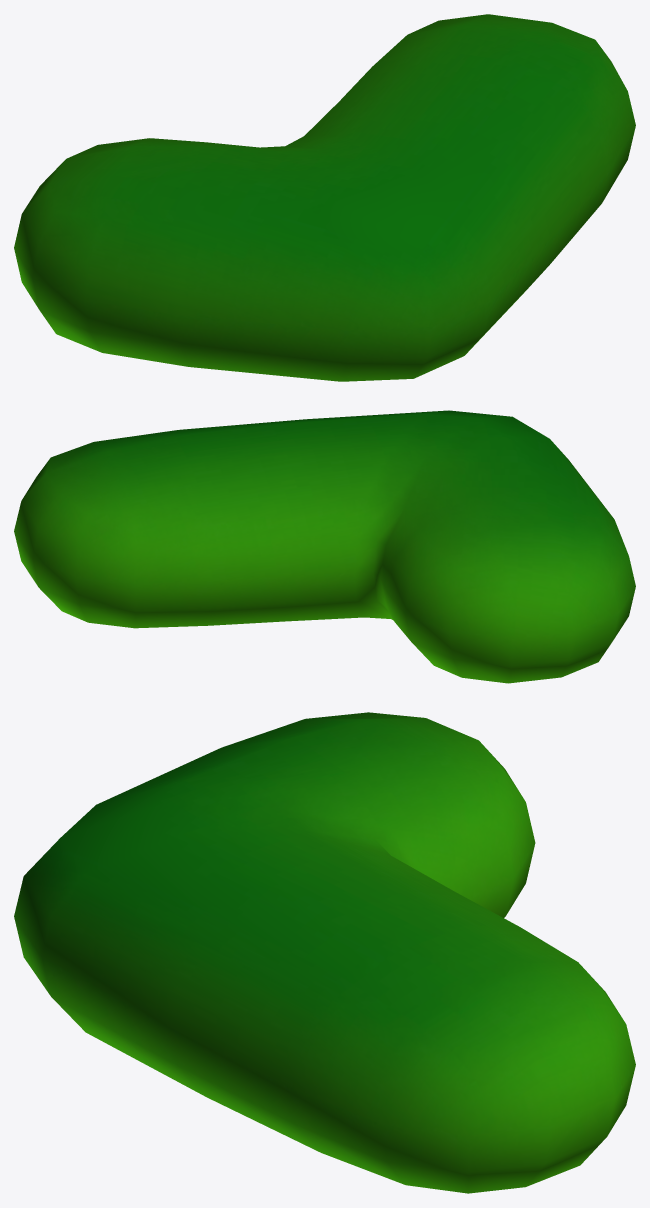
The model's file is tick.glb.
The picture shows the model from 3 angles, top to bottom: view 1: azimuth 30°, elevation 25°; view 2: azimuth 150°, elevation 25°; view 3: azimuth 270°, elevation 25°; orthographic projection. The views are drawn at different scales.
Bounding box in the file's own units: 1 × 0.2856 × 0.7231.
Materials: 1 (1 with a texture image).
